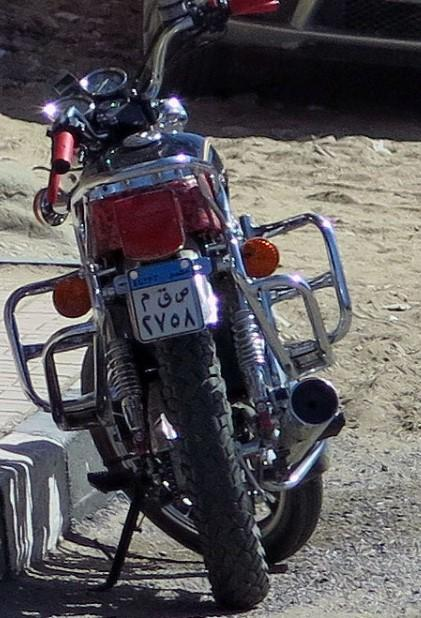License Plate: (127, 257, 205, 341)
